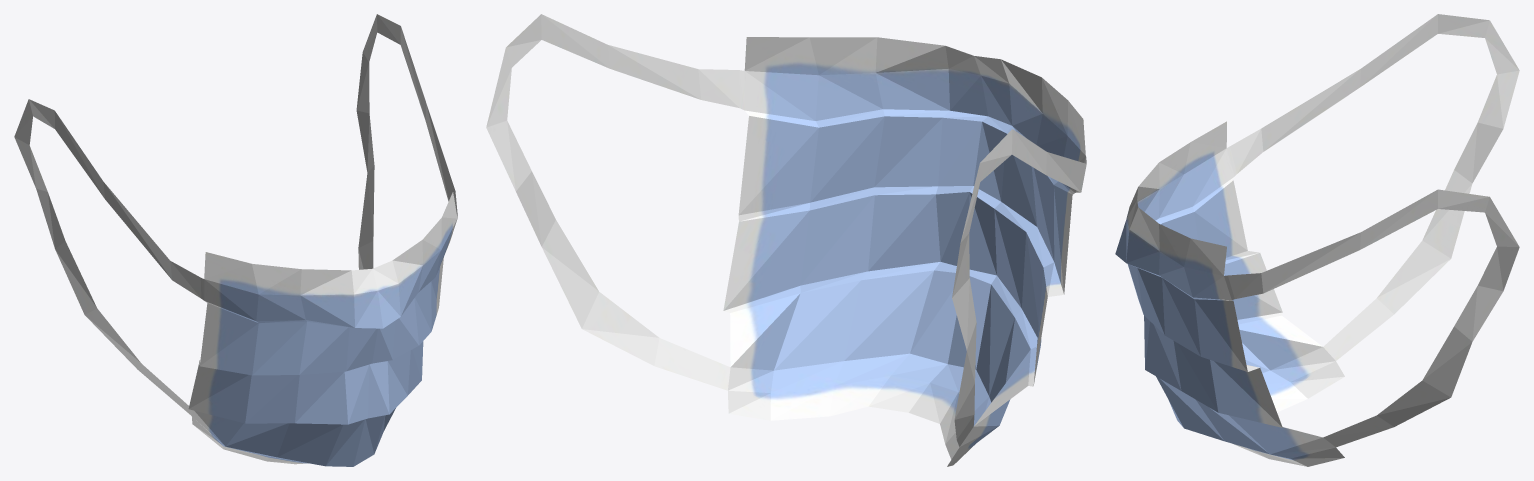
Rendered from mhw_joepal_medical_mouth_protection.glb.
3 renders of one model, left to right at view 1: azimuth 30°, elevation 25°; view 2: azimuth 150°, elevation 25°; view 3: azimuth 270°, elevation 25°, orthographic. The views are drawn at different scales.
Visible parts, largest first — view 1: mhw_joepal_medical_mouth_protection; view 2: mhw_joepal_medical_mouth_protection; view 3: mhw_joepal_medical_mouth_protection.
Boxes of the visible parts, x1=… form: mhw_joepal_medical_mouth_protection: x1=14, y1=14, x2=457, y2=466; mhw_joepal_medical_mouth_protection: x1=486, y1=14, x2=1086, y2=466; mhw_joepal_medical_mouth_protection: x1=1115, y1=14, x2=1519, y2=466.
Bounding box in the file's own units: 0.1601 × 0.1419 × 0.1549.
Materials: 1 (1 with a texture image).
